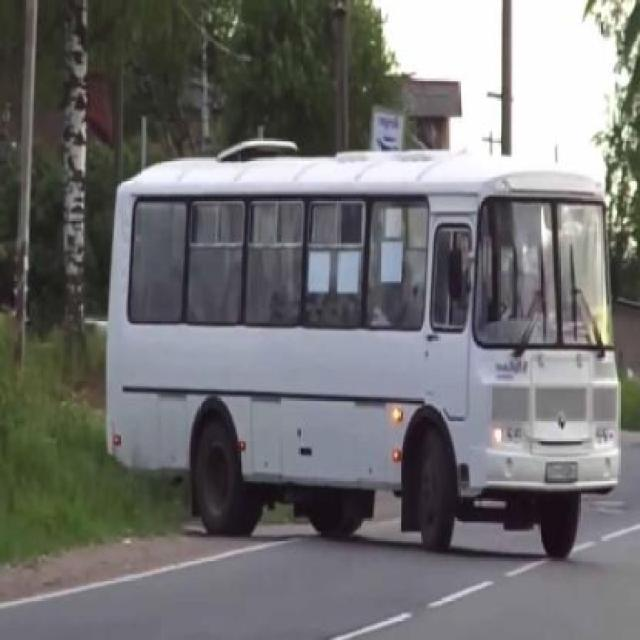bus: (109, 154, 619, 558)
